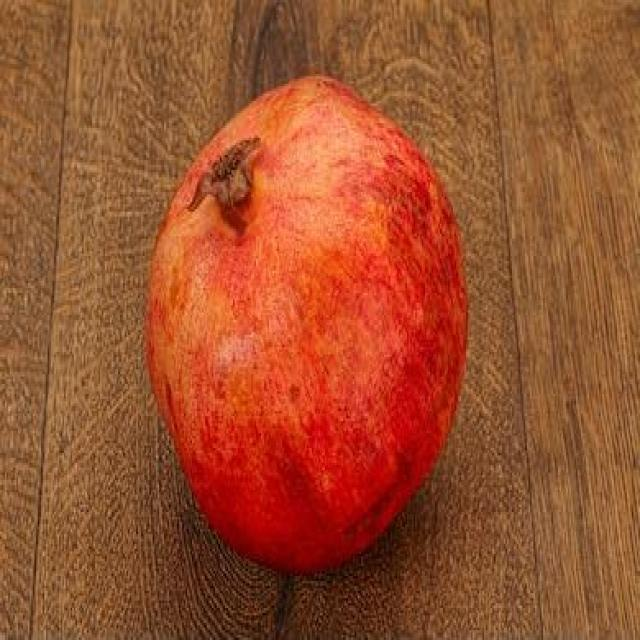Pomegranate: (145, 76, 471, 579)
